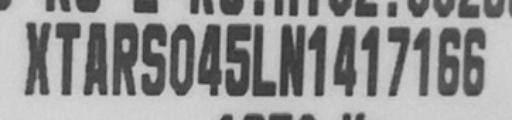letter: (19, 17, 57, 95), (276, 18, 312, 98), (330, 21, 366, 97), (138, 18, 172, 96), (222, 19, 256, 97), (302, 20, 336, 98), (432, 21, 466, 99), (384, 19, 416, 99), (108, 18, 140, 96), (168, 19, 200, 97), (194, 19, 226, 97), (248, 19, 280, 97), (460, 19, 490, 99), (52, 18, 82, 96), (408, 21, 438, 99), (359, 19, 387, 99), (82, 19, 110, 97)
